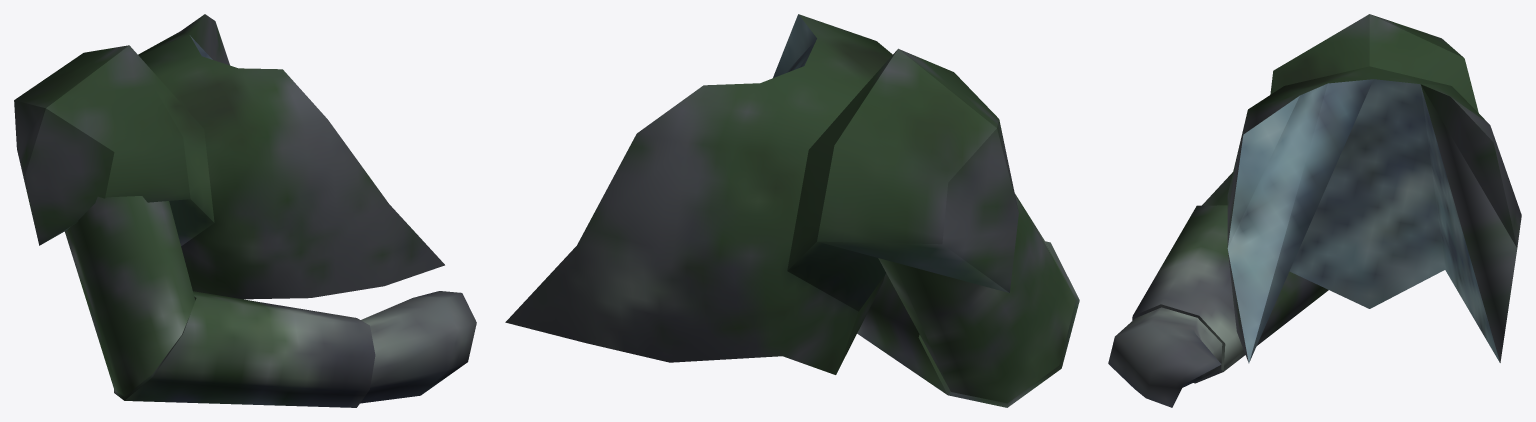
The model's file is SM_KnightRubble4.fbx.
3 renders of one model, left to right at view 1: azimuth 30°, elevation 25°; view 2: azimuth 150°, elevation 25°; view 3: azimuth 270°, elevation 25°, orthographic. The views are drawn at different scales.
Parts seen in each view (by area): view 1: KnightRightSide; view 2: KnightRightSide; view 3: KnightRightSide.
Part boxes in pixels (left/top/right/bottom): KnightRightSide: left=14, top=14, right=476, bottom=407; KnightRightSide: left=505, top=14, right=1079, bottom=407; KnightRightSide: left=1108, top=14, right=1521, bottom=407.
Bounding box in the file's own units: 164 × 141 × 170.
